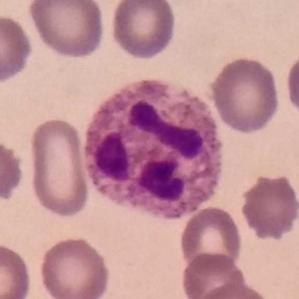Neutrophil: (76, 72, 231, 230)
RBC: (26, 115, 92, 220), (208, 55, 282, 136), (36, 234, 113, 299), (25, 0, 107, 60), (177, 204, 244, 274), (237, 170, 299, 243), (108, 0, 178, 61), (178, 251, 246, 299), (0, 11, 36, 86), (0, 241, 34, 299), (0, 136, 27, 205), (194, 281, 274, 299), (282, 47, 299, 122)
